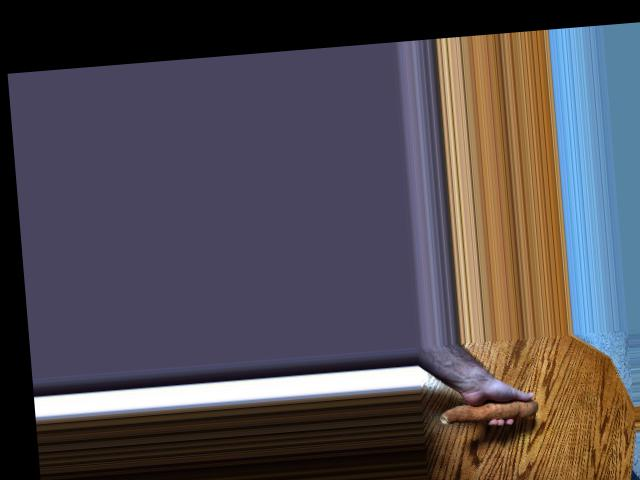sweet_potato: (437, 388, 540, 426)
